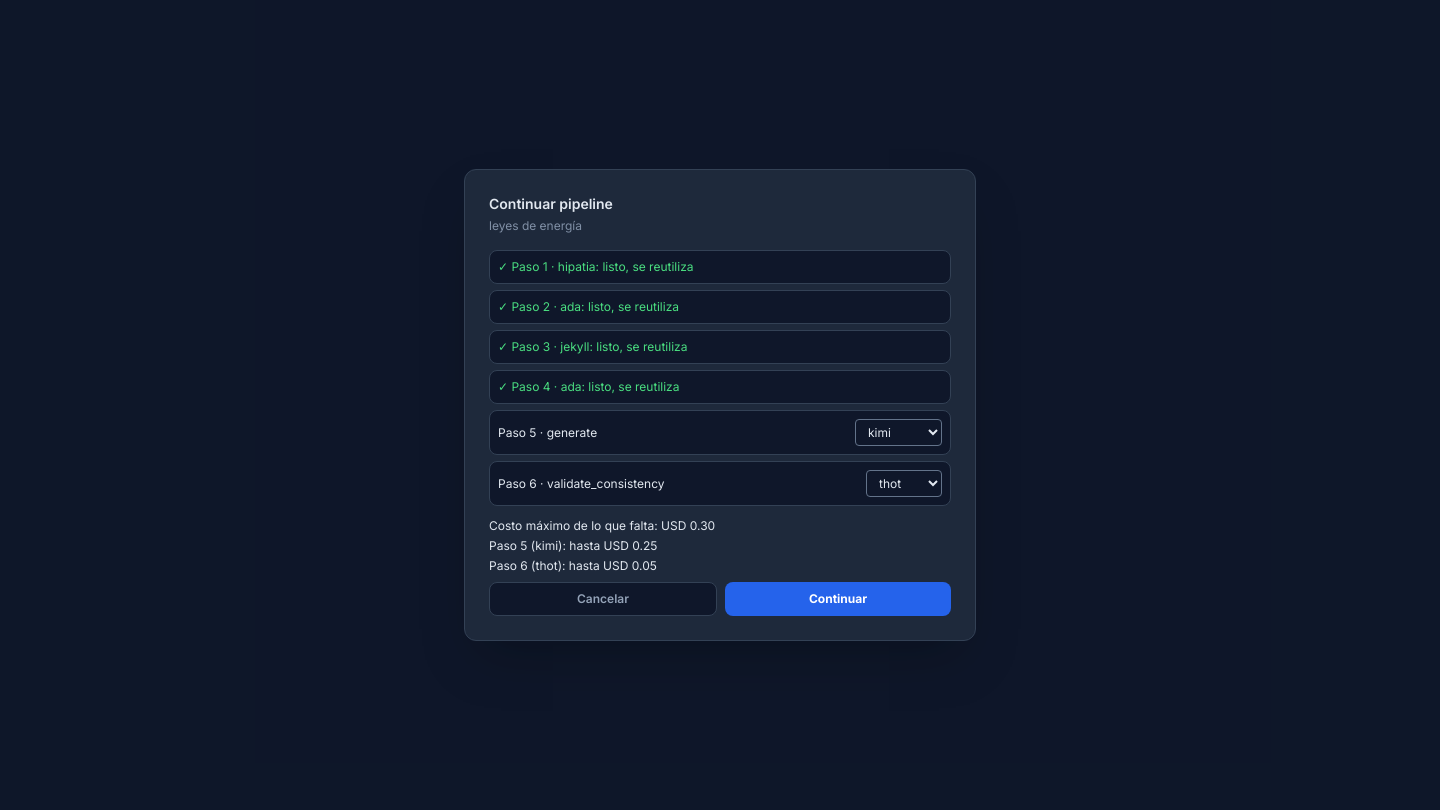
Test case: ContinuarPipelineModal -- reasignar facetas › una reasignación inválida se ve en línea con el detalle por paso y se puede corregir
Check: the button "Continuar" is enabled, box [725,582,951,616]
Select "ada" in the dropdown named "Paso 5 · generate" at (898, 432), box [855,419,942,446]
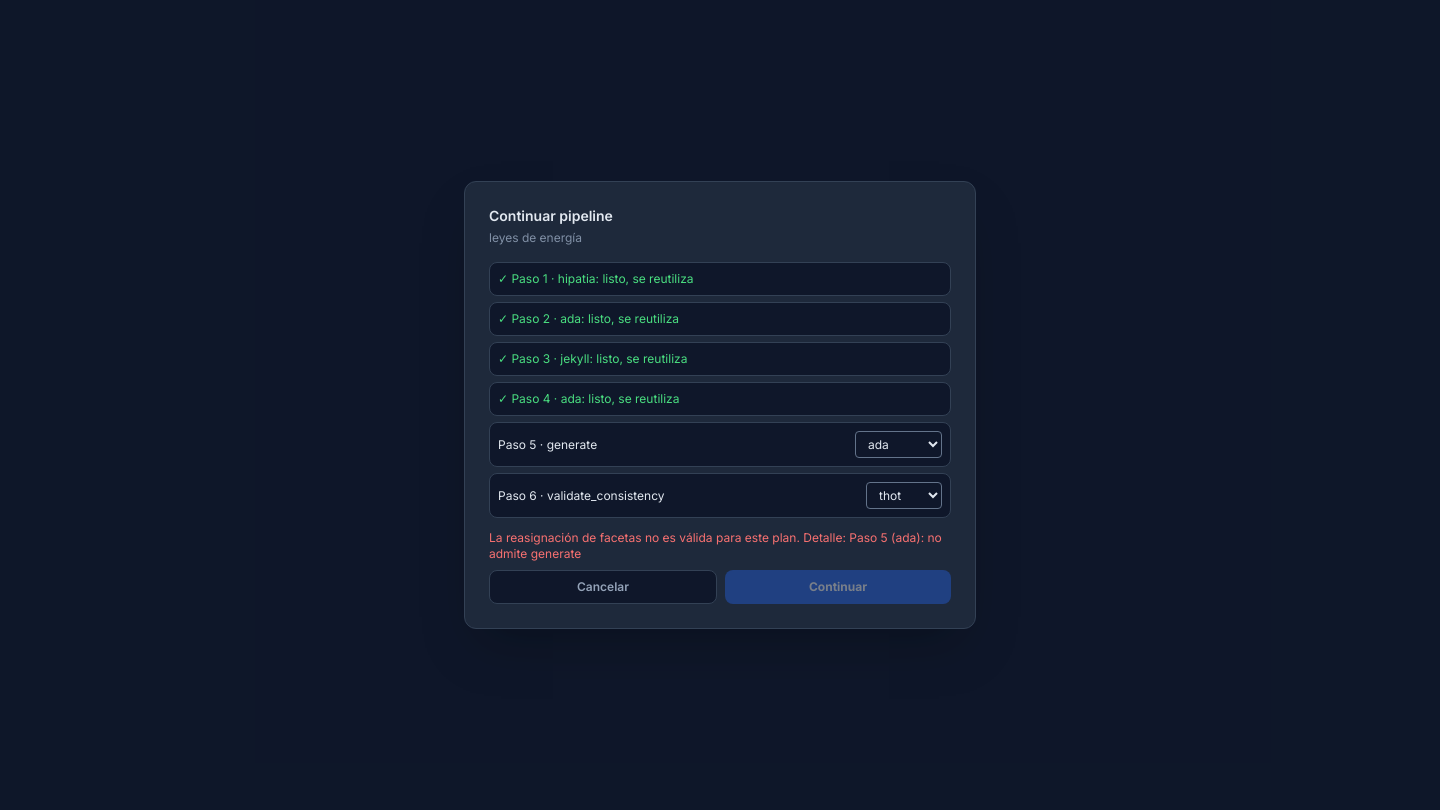
Check: the message shows "La reasignación de facetas no es válida para este plan.", box [489,530,942,561]
Check: the button "Continuar" is disabled, box [725,570,951,604]
Select "kimi" in the dropdown named "Paso 5 · generate" at (898, 444), box [855,431,942,458]
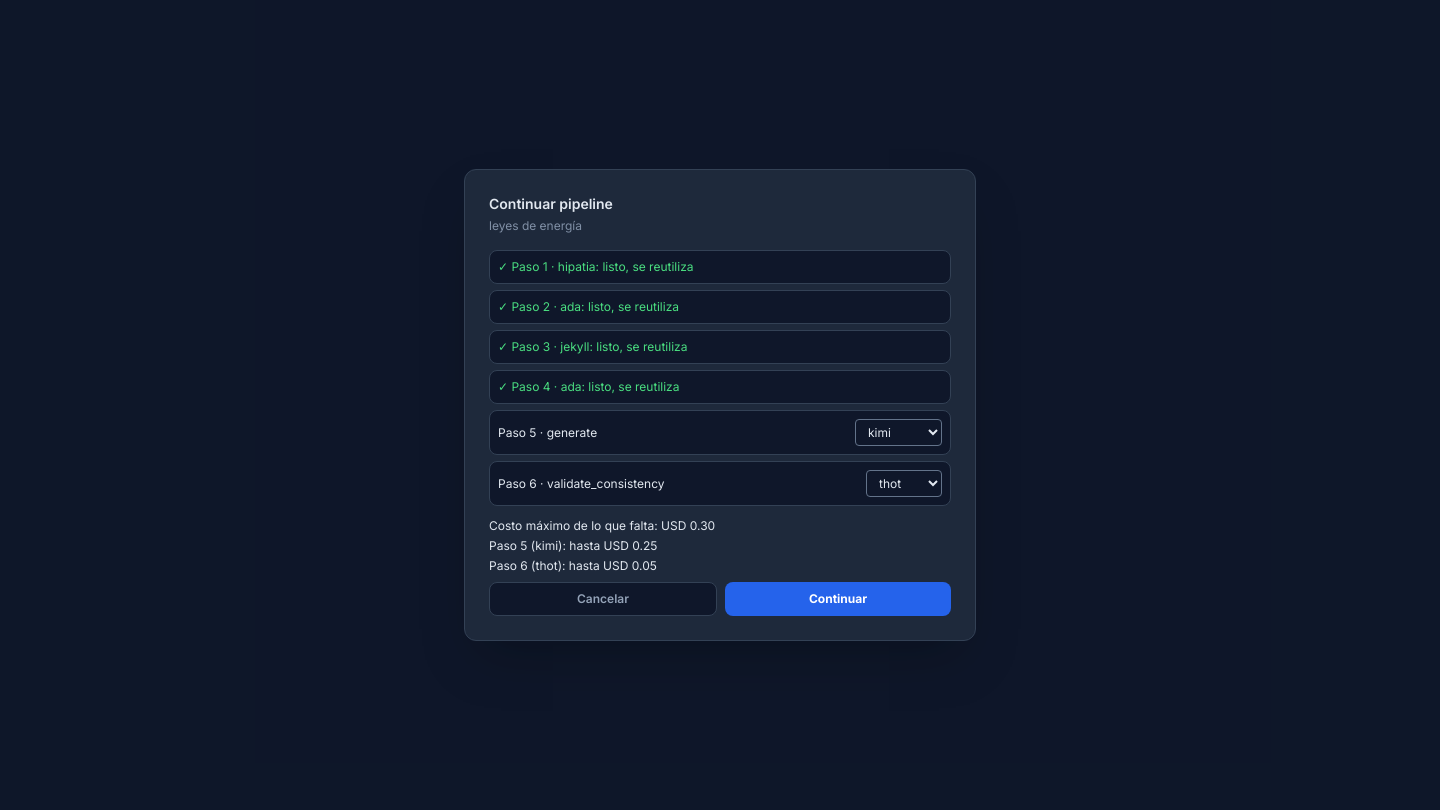
Check: the message is gone
Check: the button "Continuar" is enabled, box [725,582,951,616]
